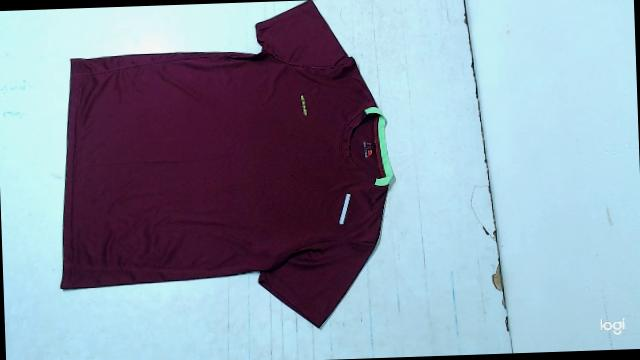new-garment: (61, 1, 393, 327)
